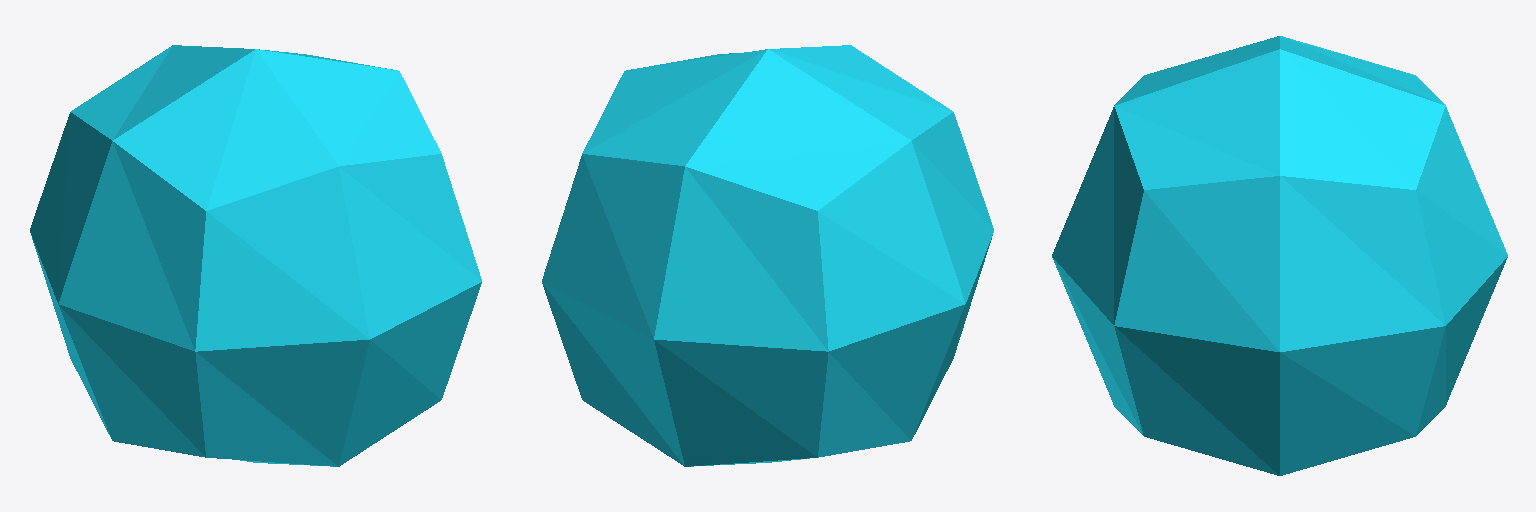
3 views of the same model, side by side, from view 1: azimuth 30°, elevation 25°; view 2: azimuth 150°, elevation 25°; view 3: azimuth 270°, elevation 25° (orthographic).
Visible parts, largest first — view 1: 立方体; view 2: 立方体; view 3: 立方体.
Boxes of the visible parts, x1=… form: 立方体: x1=30, y1=45, x2=481, y2=466; 立方体: x1=542, y1=45, x2=993, y2=466; 立方体: x1=1052, y1=36, x2=1507, y2=475.
Size of the model in its own units: 1.68 by 1.68 by 1.68.
Materials: 1 (1 with a texture image).